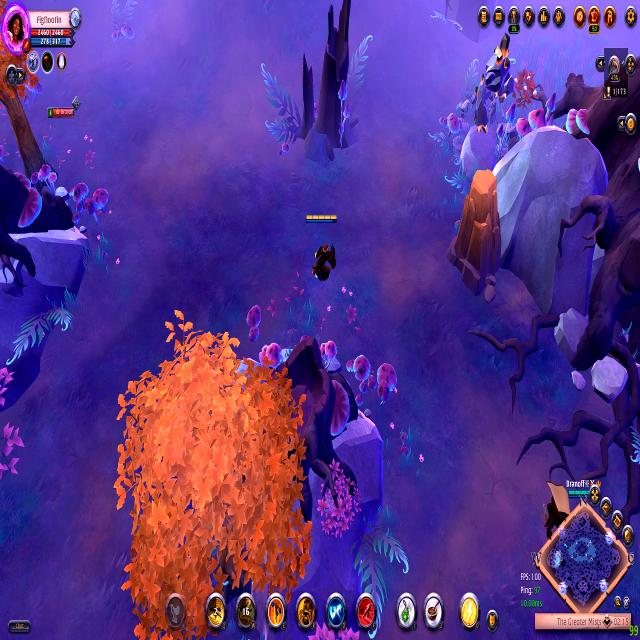hide: (511, 63, 538, 114)
ore: (455, 31, 520, 142)
red: (301, 208, 342, 286)
tree: (444, 158, 508, 308)
wisp caged: (110, 298, 315, 640), (0, 0, 61, 197)
